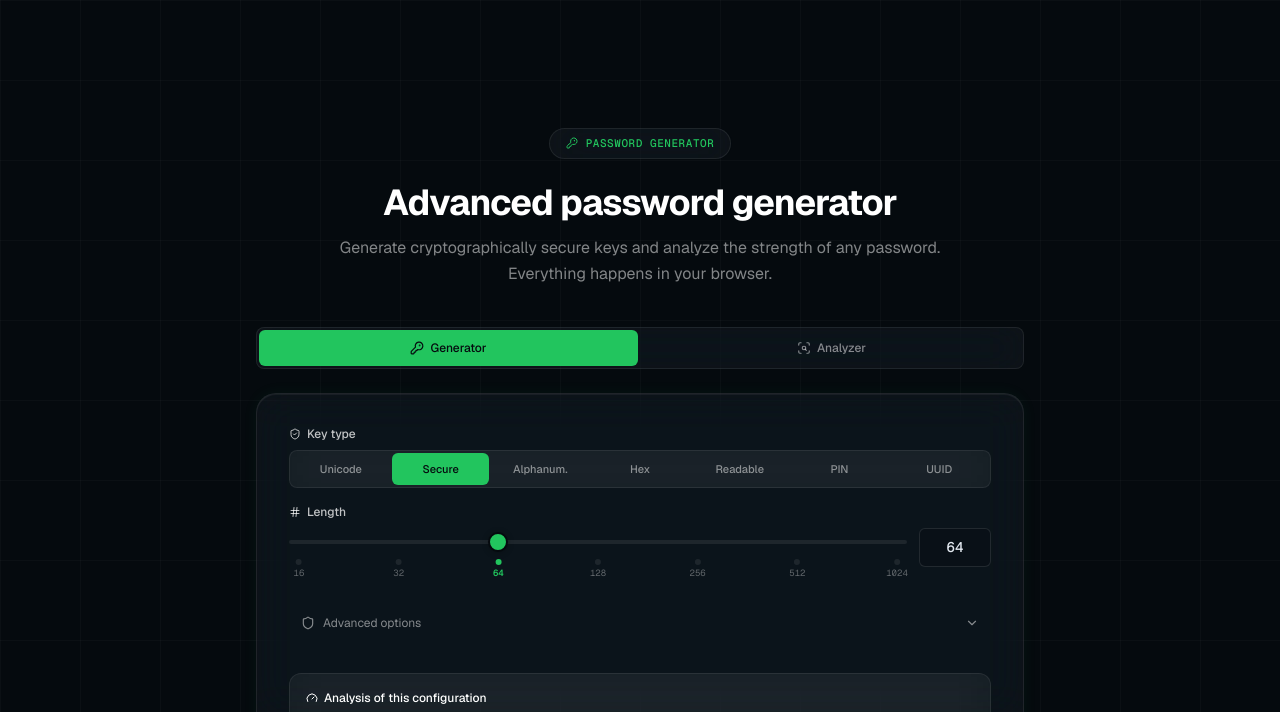
Test: GeneratorContent — length and quantity controls › moves the quantity through its stops and clamps a custom value to 50
Click the button "Advanced options" at point(372, 623), box left=289, top=605, right=991, bottom=641
(page scrolled)
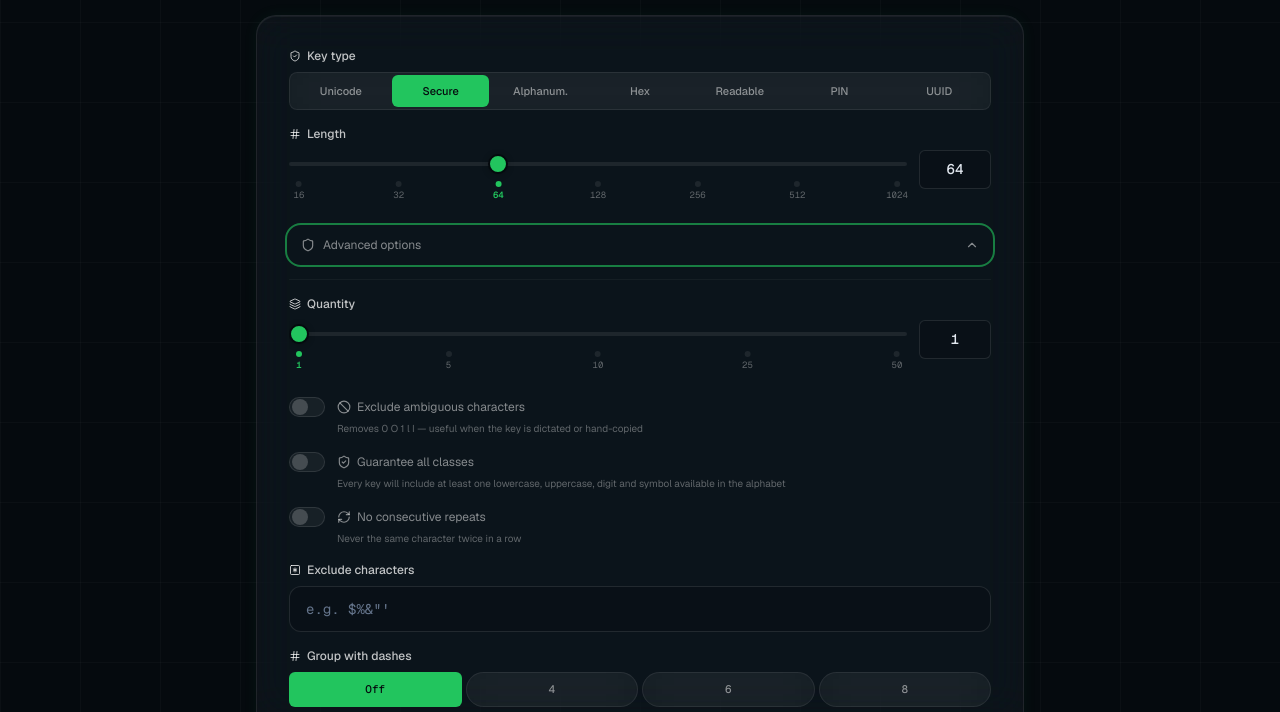
Result: the button "Advanced options" is expanded at left=289, top=227, right=991, bottom=263
Click the button named "Quantity: 10" at point(598, 360), box left=593, top=349, right=603, bottom=372
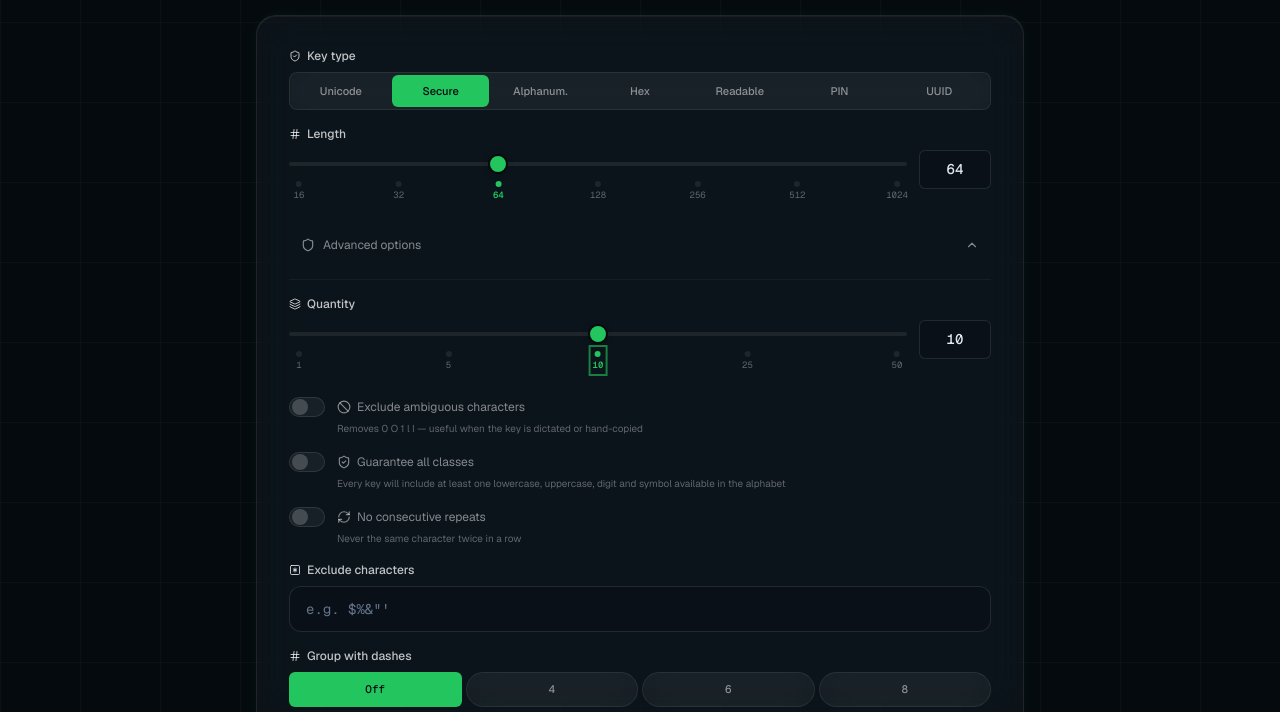
Set the slider labelled "Quantity" to "4" at point(899, 334), box left=289, top=320, right=907, bottom=348
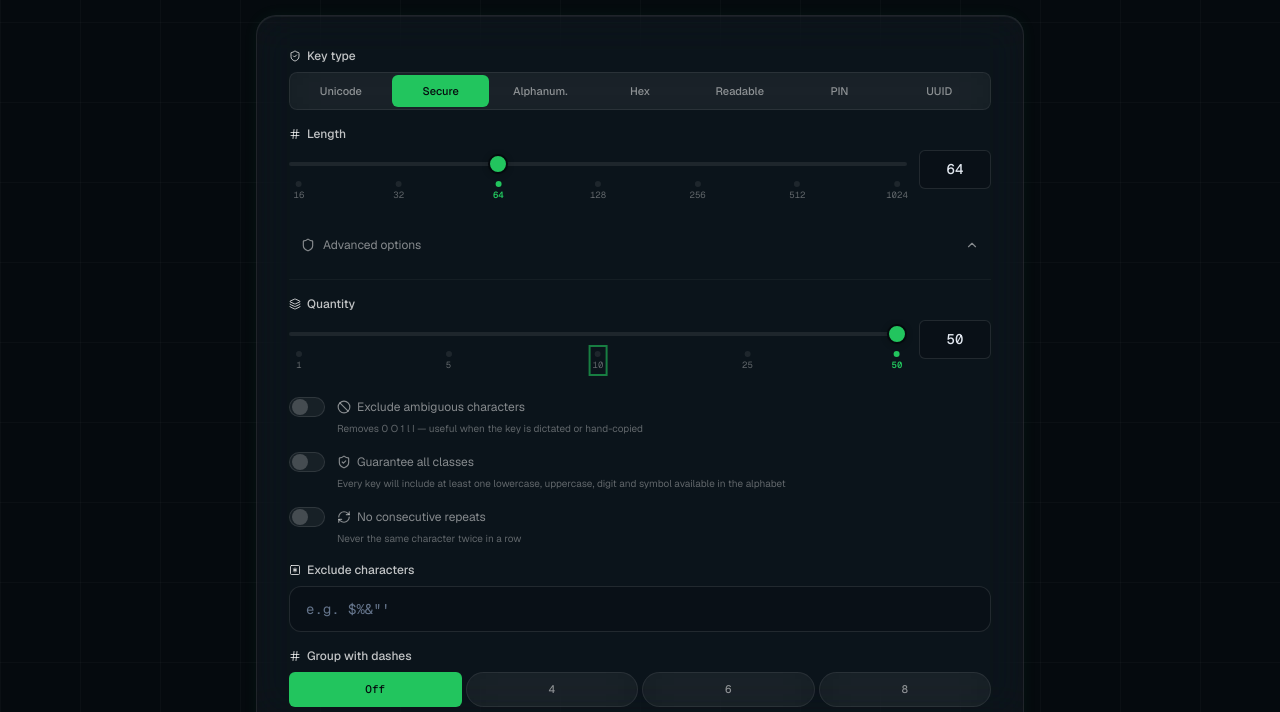
Result: the slider labelled "Quantity" has attribute aria-valuetext="50" at left=289, top=320, right=907, bottom=348
Replace the text in the number field named "Custom quantity (1–50)" with "7" at point(955, 340), box left=919, top=320, right=991, bottom=359
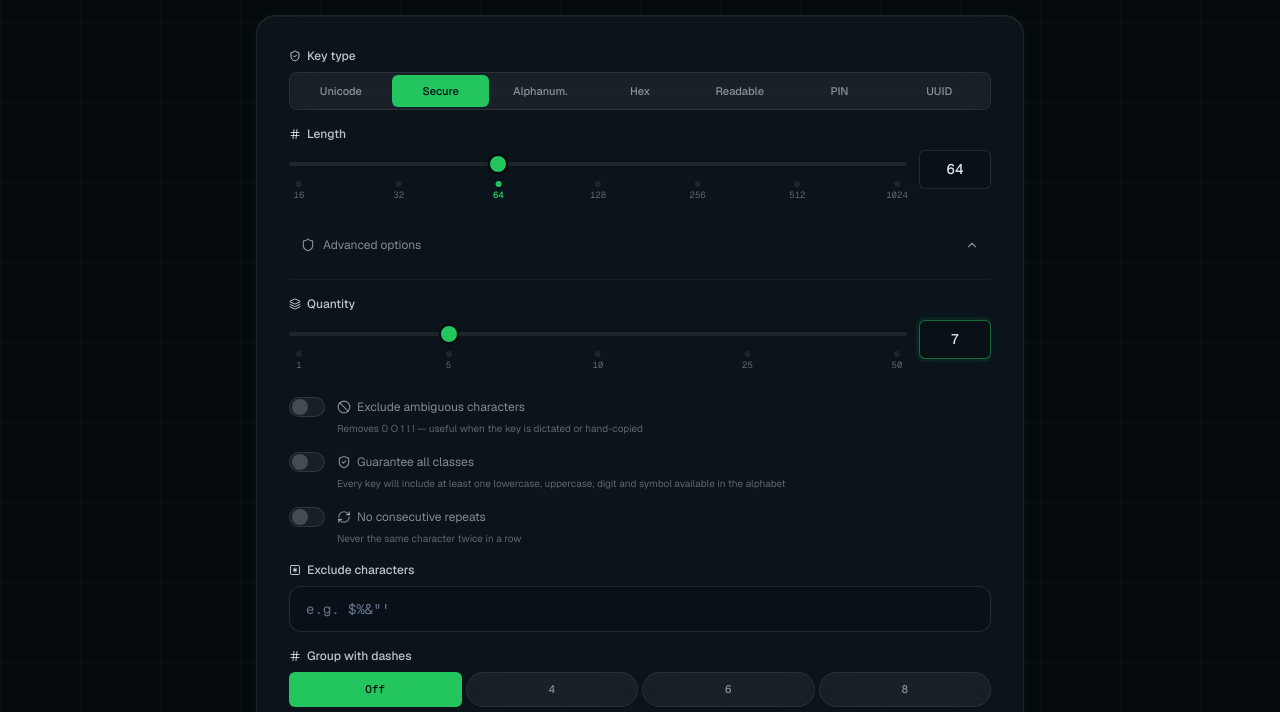
Result: the number field named "Custom quantity (1–50)" has class "theme-primary-border"
Replace the text in the number field named "Custom quantity (1–50)" with "80" at point(955, 340), box left=919, top=320, right=991, bottom=359
Clear the number field named "Custom quantity (1–50)" at point(955, 340), box left=919, top=320, right=991, bottom=359
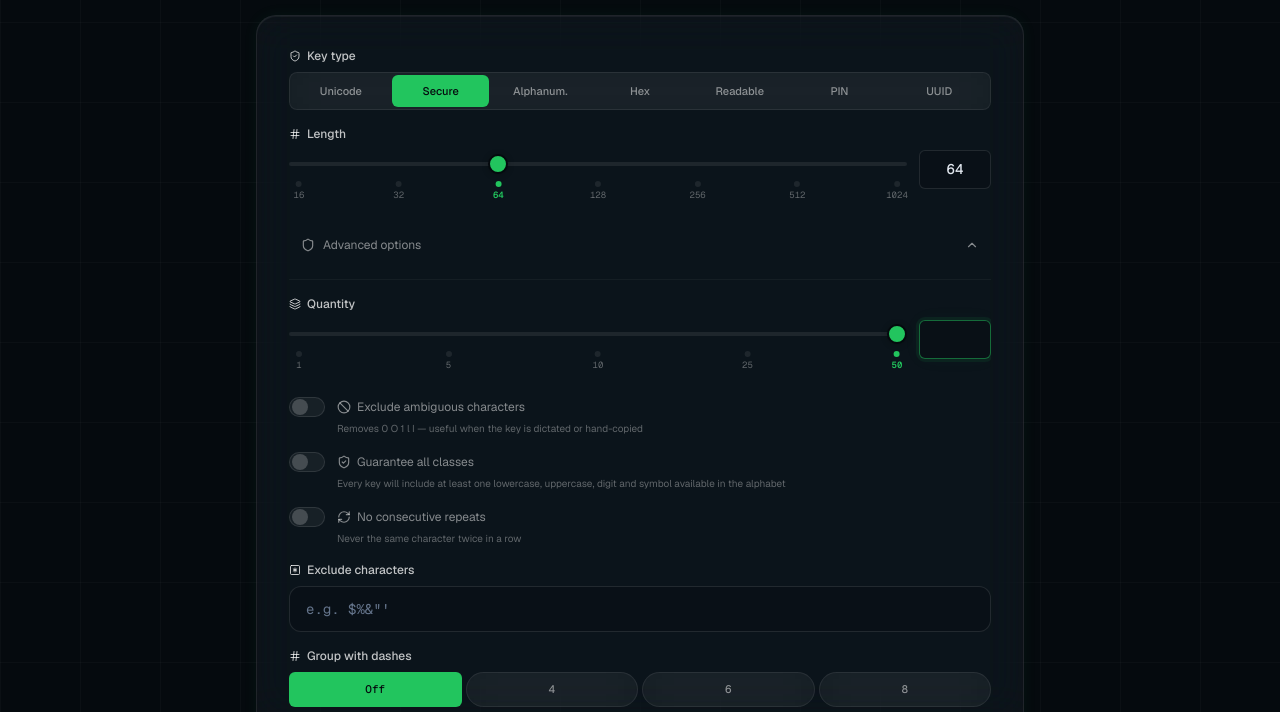
Leave the number field named "Custom quantity (1–50)", box left=919, top=320, right=991, bottom=359
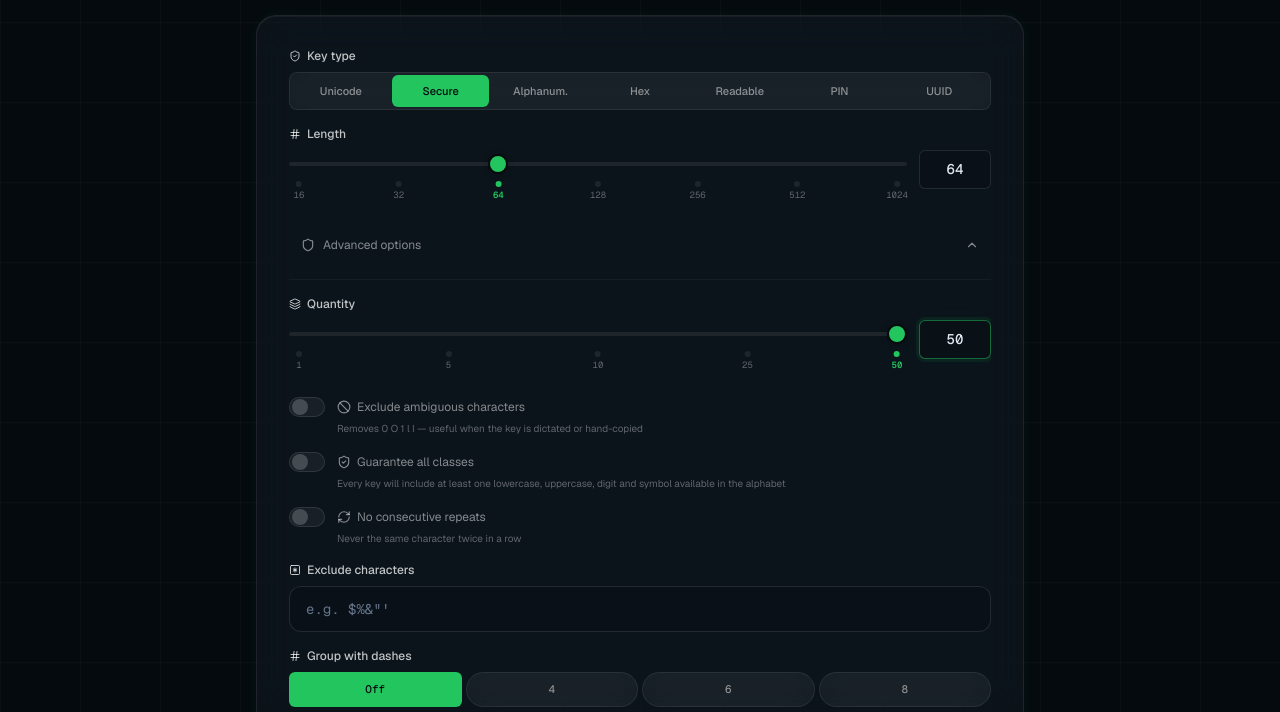
Result: the number field named "Custom quantity (1–50)" holds "50" at left=919, top=320, right=991, bottom=359
